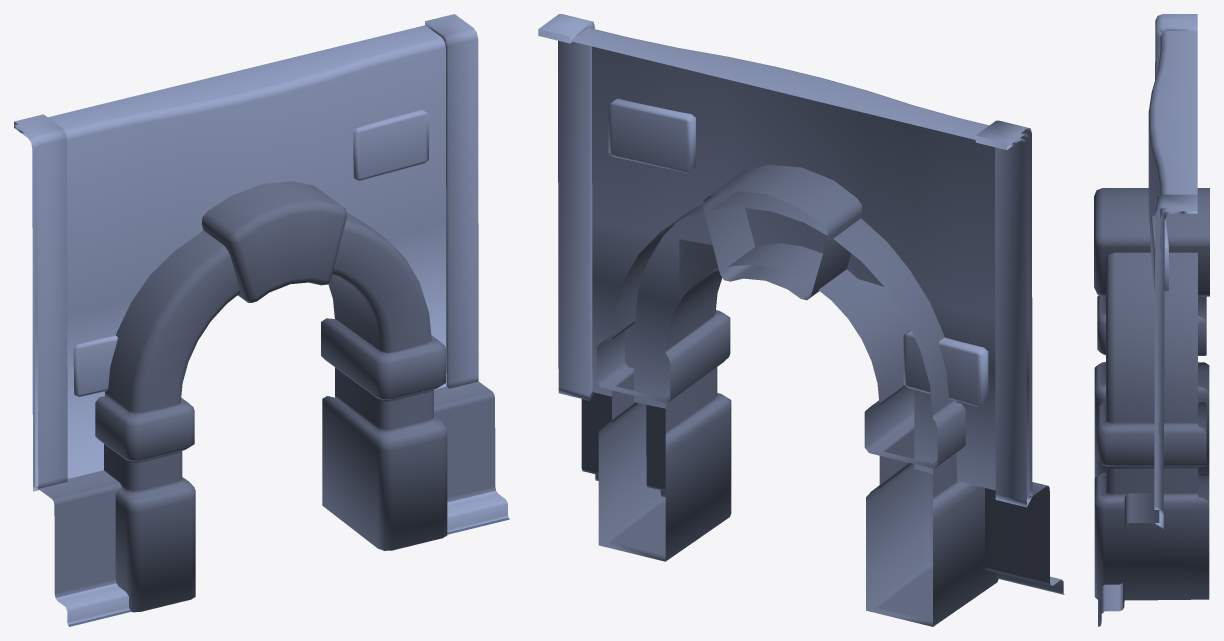
File: 2_Door.glb
3 renders of one model, left to right at view 1: azimuth 30°, elevation 25°; view 2: azimuth 150°, elevation 25°; view 3: azimuth 270°, elevation 25°, orthographic. The views are drawn at different scales.
Parts seen in each view (by area): view 1: Cube.035; view 2: Cube.035; view 3: Cube.035.
Part boxes in pixels (bbox=[...]): Cube.035: bbox=[14, 14, 509, 626]; Cube.035: bbox=[538, 14, 1064, 626]; Cube.035: bbox=[1094, 14, 1209, 626].
Size of the model in its own units: 4 by 4.04 by 1.01.
